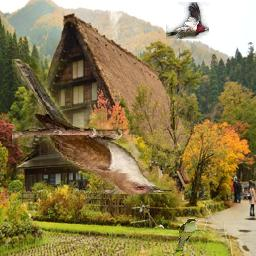Cuckoo: (12, 60, 172, 195), (174, 219, 200, 254)
Woodpecker: (167, 3, 210, 40)
